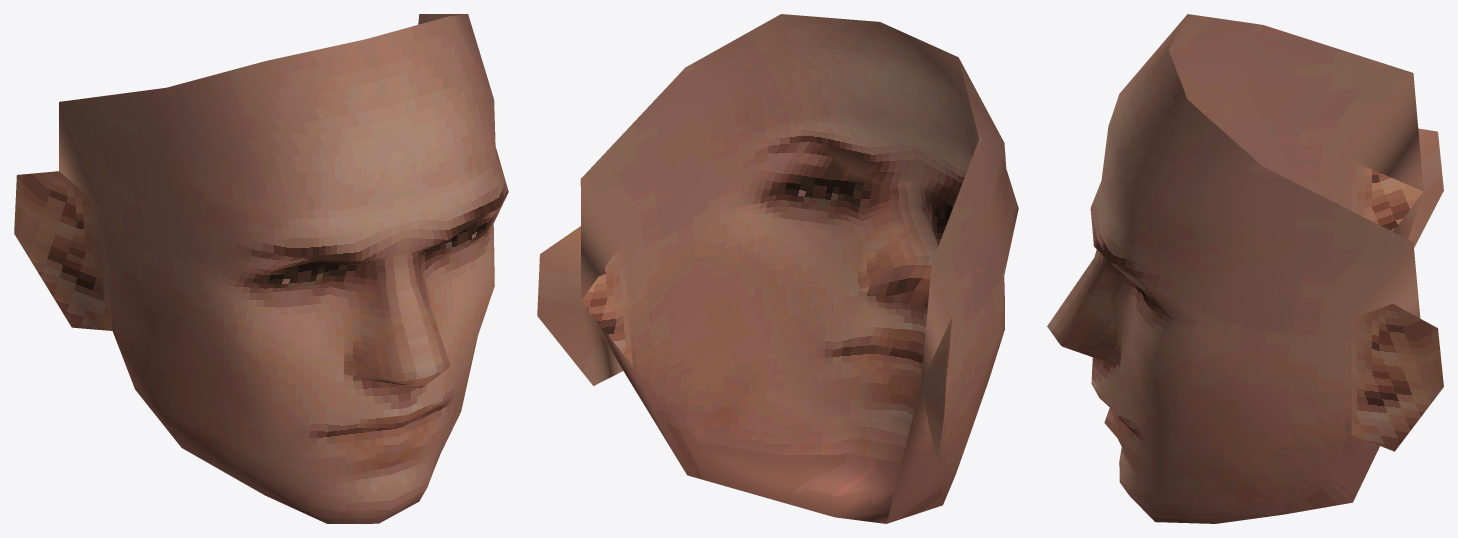
3 views of the same model, side by side, from view 1: azimuth 30°, elevation 25°; view 2: azimuth 150°, elevation 25°; view 3: azimuth 270°, elevation 25° (orthographic). The views are drawn at different scales.
Size of the model in its own units: 17.18 by 18.64 by 14.66.
1 material, 1 textured.
